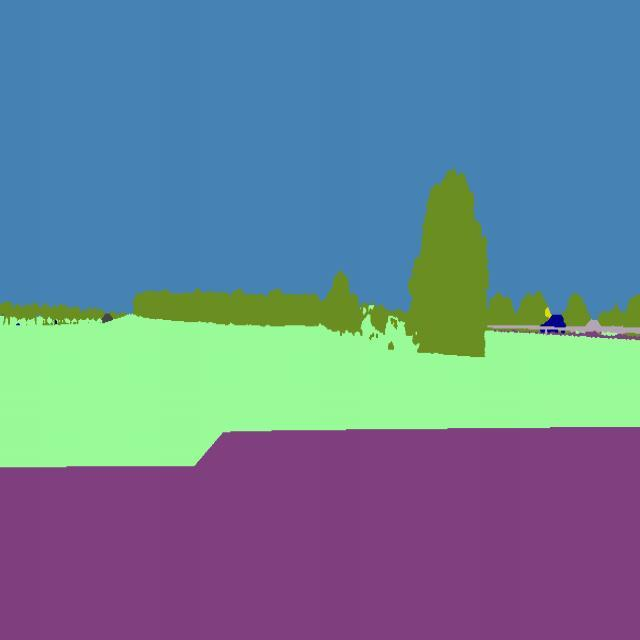safe: (536, 307, 572, 338)
